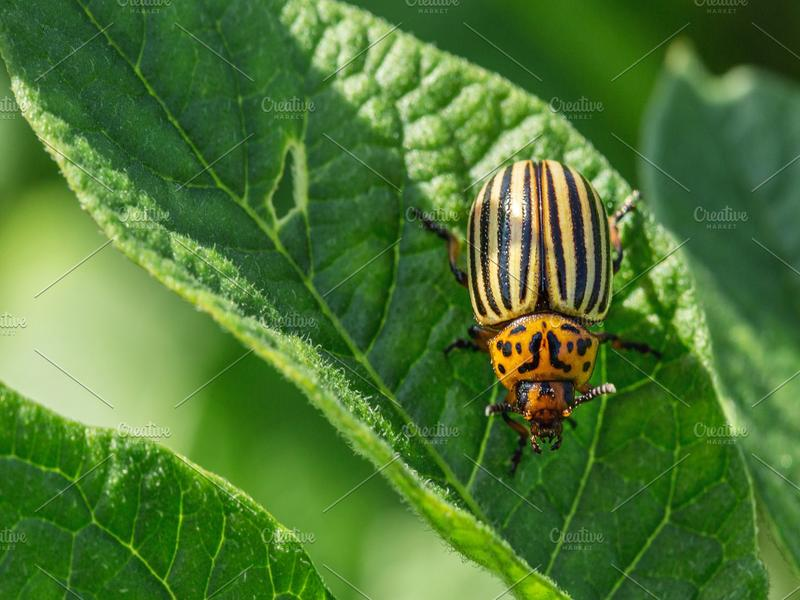hrosc: (443, 145, 648, 452)
